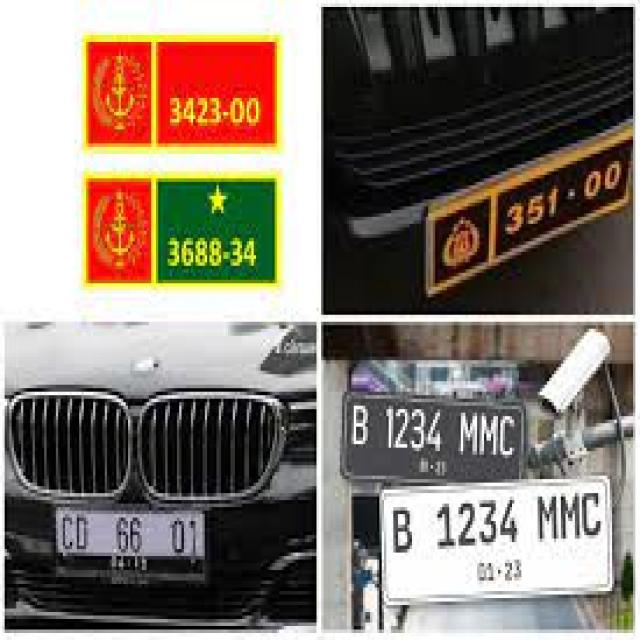lisence-plate: (333, 396, 620, 614), (413, 102, 640, 303), (80, 33, 289, 160), (79, 176, 284, 290), (56, 506, 212, 595)
